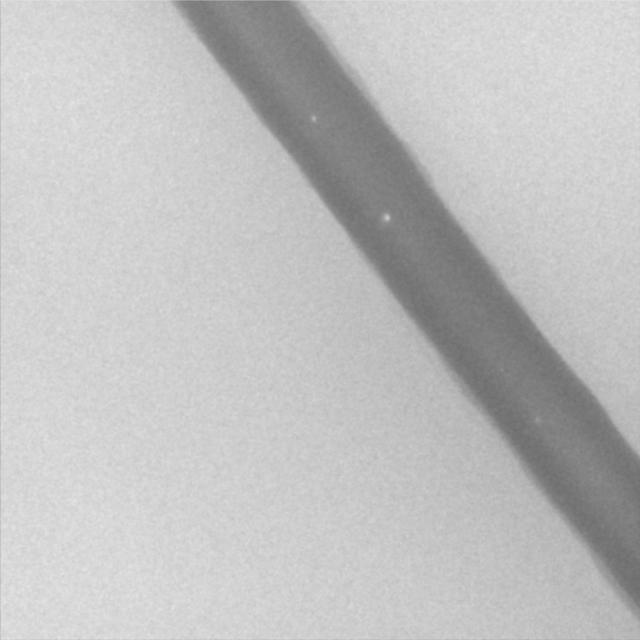air hole: (380, 212, 390, 224), (309, 113, 317, 123)
